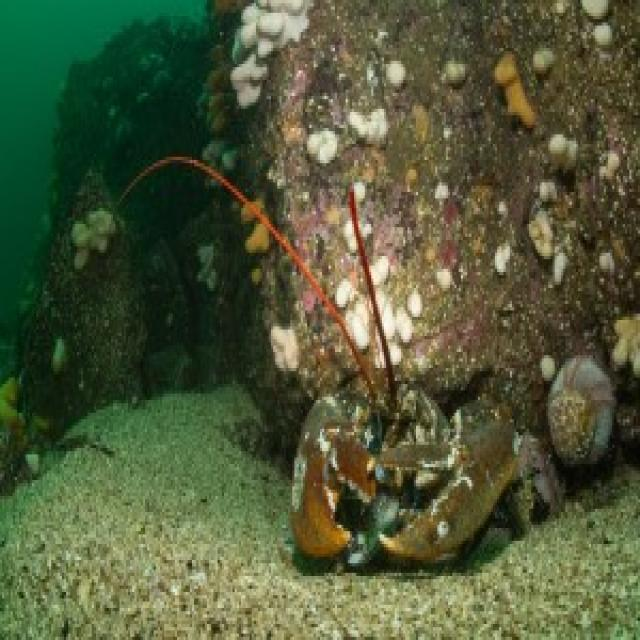lobsters: (208, 100, 640, 640)
